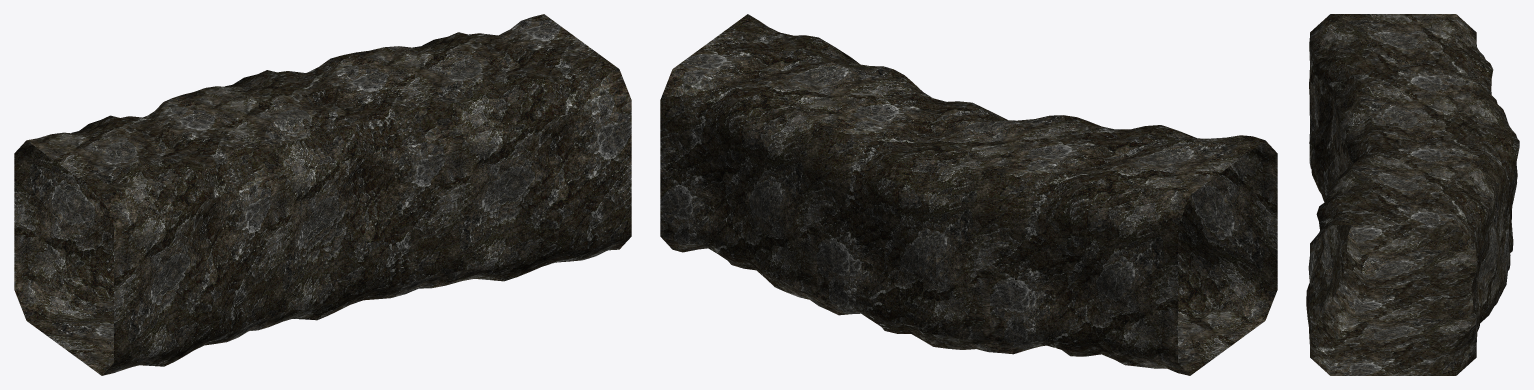
The model's file is Cave_065.fbx.
3 views of the same model, side by side, from view 1: azimuth 30°, elevation 25°; view 2: azimuth 150°, elevation 25°; view 3: azimuth 270°, elevation 25° (orthographic). The views are drawn at different scales.
Parts seen in each view (by area): view 1: Cave.065; view 2: Cave.065; view 3: Cave.065.
Part boxes in pixels (x1,y1,x2,y2): Cave.065: [14, 14, 631, 375]; Cave.065: [660, 14, 1277, 375]; Cave.065: [1306, 14, 1519, 375].
Size of the model in its own units: 900 by 331 by 385.
